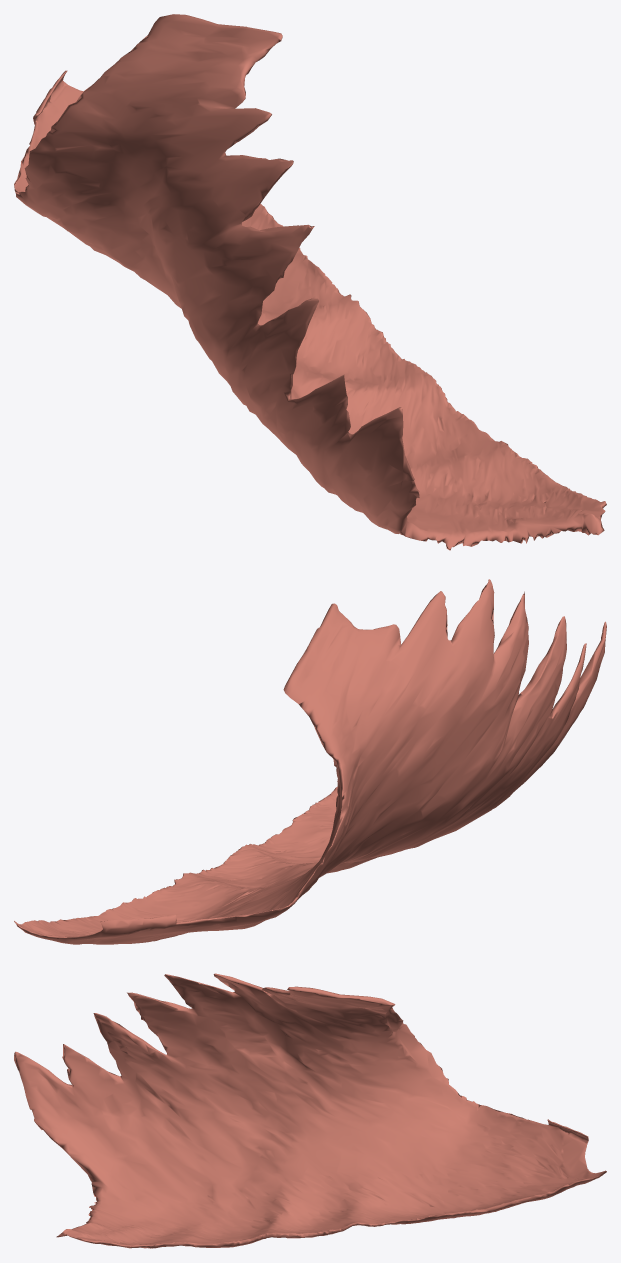
The picture shows the model from 3 angles, top to bottom: view 1: azimuth 30°, elevation 25°; view 2: azimuth 150°, elevation 25°; view 3: azimuth 270°, elevation 25°; orthographic projection. The views are drawn at different scales.
Visible parts, largest first — view 1: 右侧腹外斜肌; view 2: 右侧腹外斜肌; view 3: 右侧腹外斜肌.
Part boxes in pixels (box(x1,y1,x2,y2)): 右侧腹外斜肌: box(14, 14, 606, 550); 右侧腹外斜肌: box(14, 579, 606, 944); 右侧腹外斜肌: box(14, 973, 606, 1248).
Bounding box in the file's own units: 0.2006 × 0.2652 × 0.6161.
